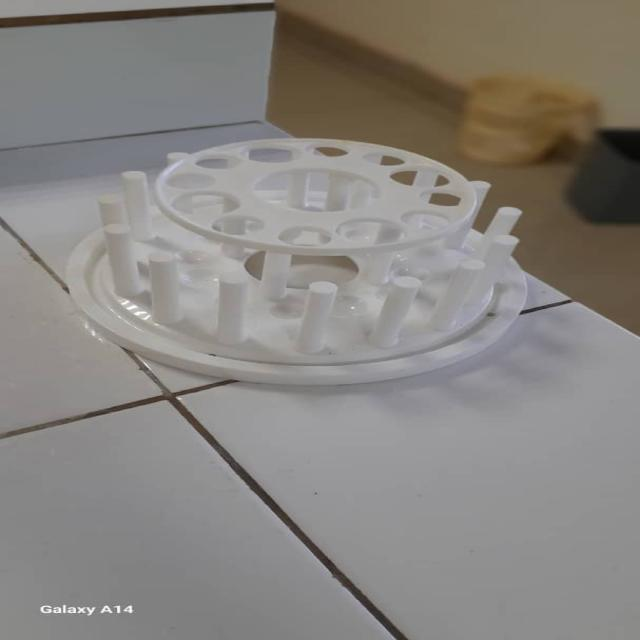Test Tube Racks: (46, 133, 535, 387)
